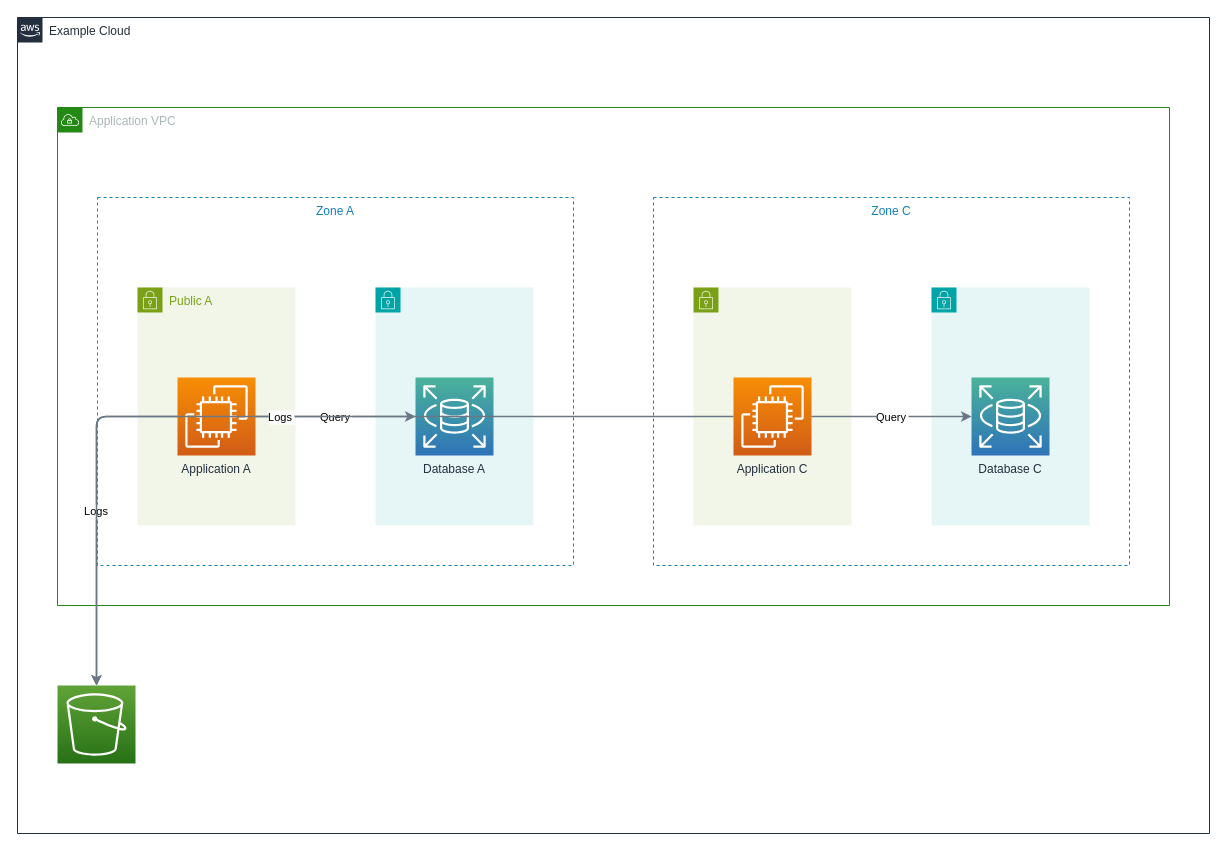
Some shapes in this 1227 by 851 pixel diagram are drawn without their labels. The shapes that lost their labels are listed below. From the top down, each one's box as (x1, y1, x2, y2) in pixels, then its label:
(374, 286, 534, 526): Private A
(692, 286, 852, 526): Public C
(930, 286, 1090, 526): Private C
(56, 684, 136, 764): Log Archive
